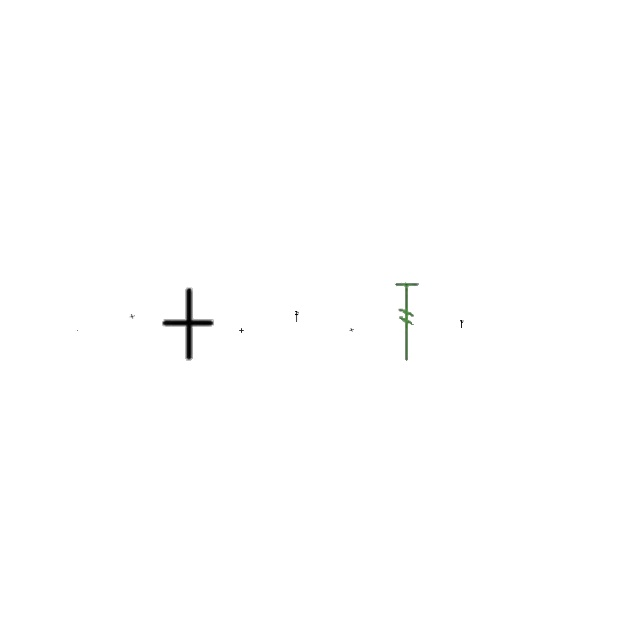chain: (76, 330, 78, 332)
double: (158, 288, 216, 362), (240, 328, 244, 334)
double treble: (295, 312, 299, 322), (460, 320, 464, 328)
enseble_chain: (129, 314, 135, 320), (350, 328, 354, 332)
fan: (392, 279, 422, 365)
